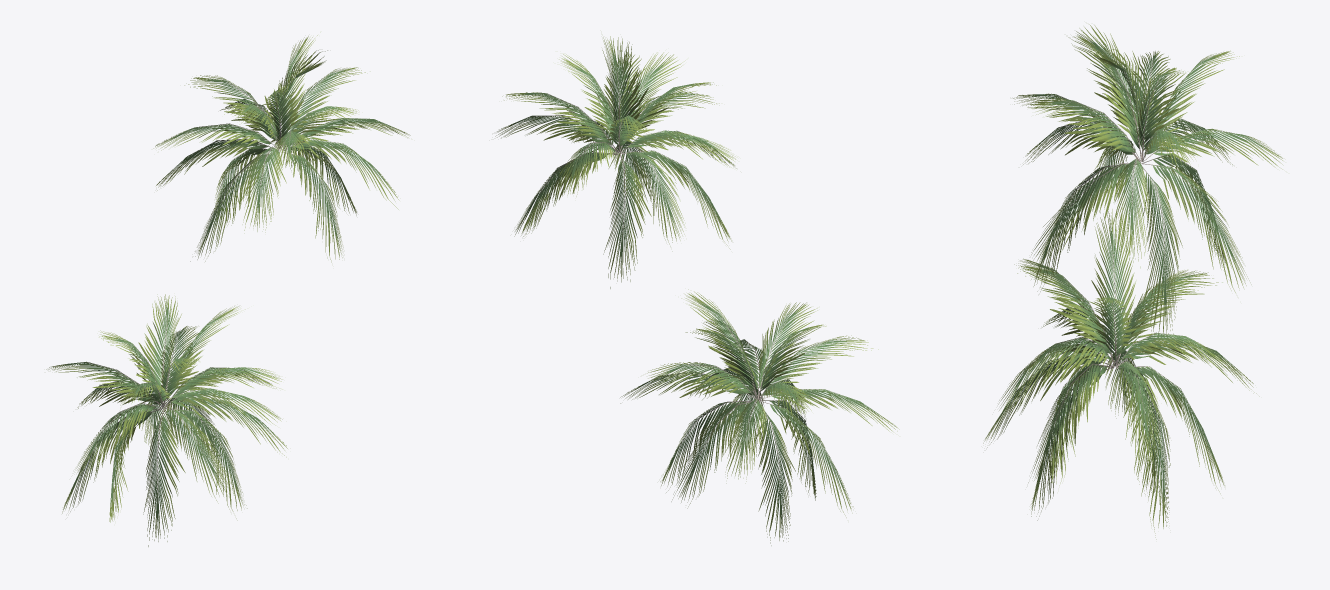
File: m_palm_p2_22_leaf_0_lev2.glb
The picture shows the model from 3 angles, left to right: view 1: azimuth 30°, elevation 25°; view 2: azimuth 150°, elevation 25°; view 3: azimuth 270°, elevation 25°; orthographic projection. The views are drawn at different scales.
Visible parts, largest first — view 1: m_palm_p2_22_leaf_0_lev2; view 2: m_palm_p2_22_leaf_0_lev2; view 3: m_palm_p2_22_leaf_0_lev2.
Part boxes in pixels (bbox=[...]): m_palm_p2_22_leaf_0_lev2: bbox=[46, 32, 410, 546]; m_palm_p2_22_leaf_0_lev2: bbox=[495, 36, 899, 545]; m_palm_p2_22_leaf_0_lev2: bbox=[983, 24, 1283, 539].
Bounding box in the file's own units: 5.76 × 6.25 × 3.29.
1 material, 1 textured.
